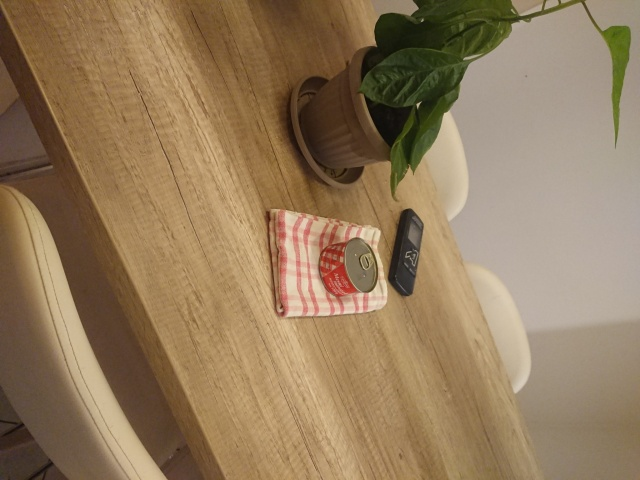Podravka Luncheon Meat 150g: (317, 235, 380, 299)
